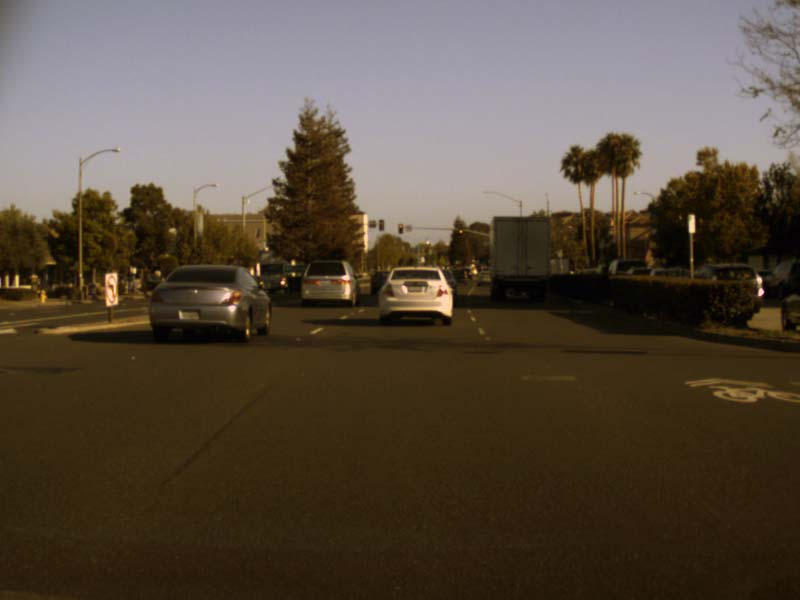Red: (397, 223, 403, 234), (458, 228, 462, 233)
